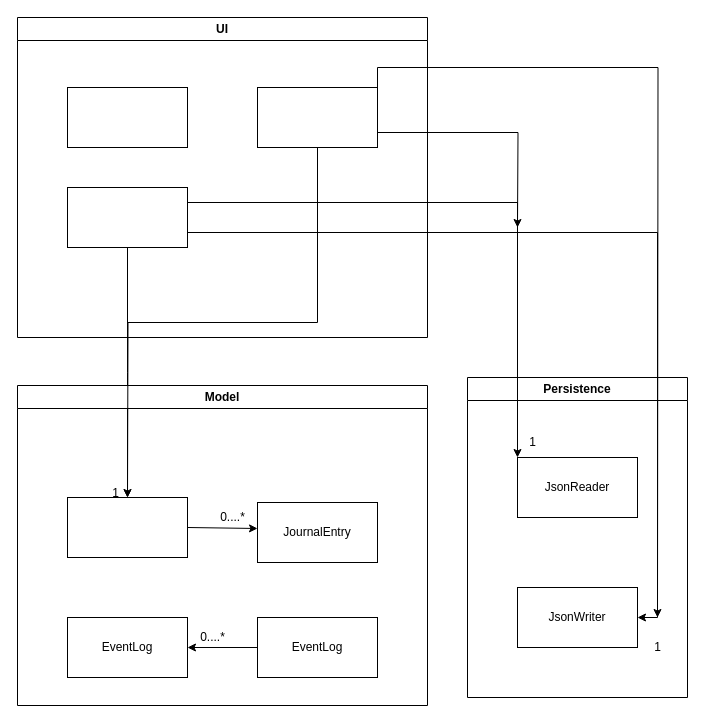
Some shapes in this 705 by 723 pixel diagram are drawn without their labels. Here are the shapes that lost their labels. From the top down, the centre of each, then its label:
At (127,117): "Main".
At (317,117): "JournalApp".
At (127,217): "GUI".
At (127,527): "Journal".
